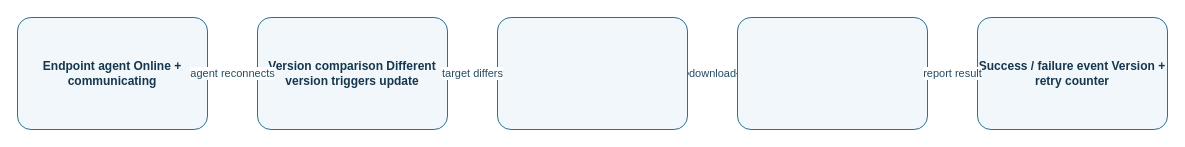
The diagram is 1185 pixels wide and 147 high, and some of its shapes have lost their labels. The centre of each missing label's shape, as x and y in pixels:
"Install / reboot Rollback software can revert" goes at point 832,73.
"TCP port 80 Package delivery from NAC" goes at point 592,73.
